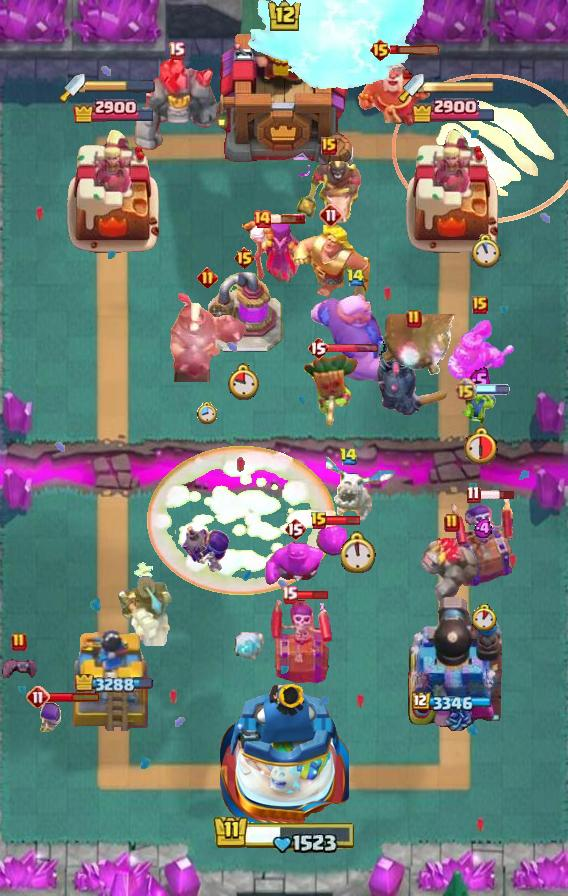axe: (241, 216, 305, 282)
balloon: (308, 292, 402, 384)
bar: (64, 124, 164, 256), (403, 124, 503, 256)
barbarian-barrel: (0, 657, 40, 683)
bat: (221, 630, 265, 664)
cannoneer-tower: (133, 57, 219, 153)
clock: (212, 811, 356, 853)
electro-spirit: (468, 366, 491, 393), (474, 519, 494, 538)
elixir: (460, 426, 498, 467), (341, 531, 377, 573), (228, 363, 260, 400), (471, 235, 501, 269), (472, 604, 497, 631), (197, 403, 217, 426)
elixir-collector: (354, 54, 432, 128)
elixir-golem-big: (445, 318, 515, 394)
emote: (48, 691, 101, 703), (390, 45, 442, 56), (327, 343, 379, 354), (480, 489, 517, 501), (270, 213, 306, 225), (295, 589, 330, 601), (474, 385, 510, 396), (327, 514, 362, 525)
freeze: (295, 160, 363, 226)
goblin: (37, 701, 67, 741)
goblin-ball: (180, 524, 232, 578)
goblin-barrel: (302, 350, 362, 428)
goblin-hut: (292, 225, 370, 297)
golemite: (377, 324, 451, 418)
ice-wizard: (392, 74, 568, 223)
inferno-dragon: (116, 570, 174, 646)
king-tower: (211, 7, 357, 181), (219, 678, 349, 826)
king-tower-bar: (424, 80, 496, 94), (85, 80, 155, 94)
mega-knight: (245, 0, 429, 96)
miner: (315, 526, 347, 556)
mini-pekka: (321, 456, 397, 528)
pekka: (205, 272, 283, 354)
phoenix-big: (146, 445, 336, 595)
queen-tower: (64, 621, 164, 731)
royal-guardian: (166, 290, 248, 382)
selected: (411, 97, 498, 124), (72, 97, 156, 123), (412, 691, 494, 713), (75, 673, 153, 695)
skeleton-king-bar: (451, 492, 517, 586), (270, 597, 332, 683)
text: (319, 203, 343, 227), (26, 685, 50, 709), (368, 38, 391, 62), (232, 246, 255, 270), (455, 378, 478, 402), (307, 336, 329, 360), (284, 517, 306, 541), (197, 267, 218, 289), (252, 209, 272, 229), (338, 447, 358, 466), (310, 511, 328, 531), (167, 41, 185, 60), (347, 269, 366, 287), (281, 584, 298, 603), (406, 309, 422, 329), (444, 513, 460, 533), (11, 632, 27, 652), (321, 137, 337, 155), (472, 296, 488, 314), (467, 484, 481, 503)
tornado: (264, 541, 326, 587)
tower-bar: (404, 593, 502, 731)
valkyrie-evolution: (420, 538, 484, 606)
x-bow: (377, 315, 458, 378)
zap: (461, 388, 497, 428)
